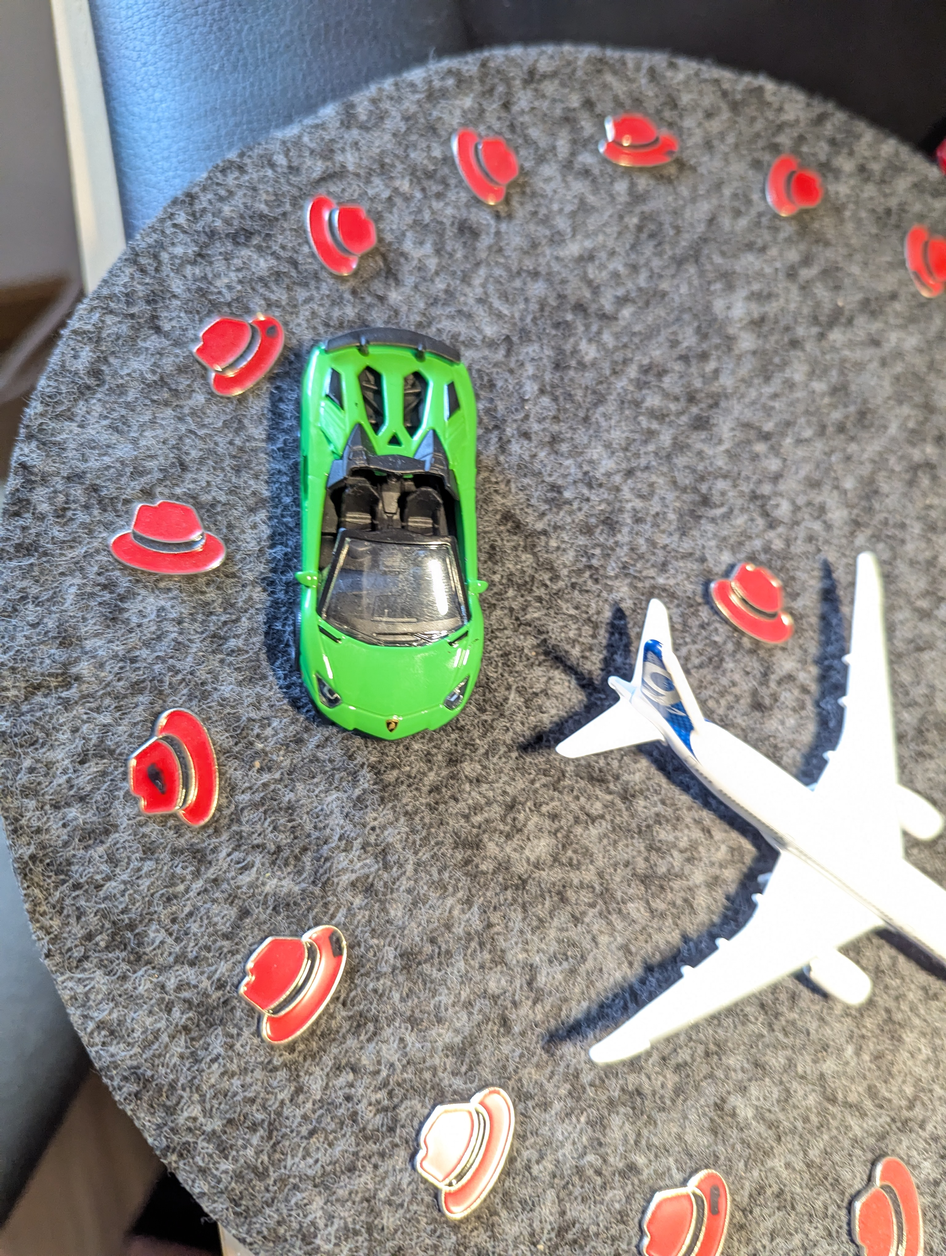Airplane: (543, 501, 946, 1095)
Car: (274, 309, 487, 743)
Red-Hat: (105, 681, 237, 854), (397, 1068, 525, 1246), (235, 896, 355, 1071), (173, 294, 310, 406), (92, 491, 235, 597), (693, 537, 810, 658), (622, 1148, 743, 1256), (837, 1145, 944, 1256), (432, 109, 536, 209), (292, 178, 380, 290), (586, 95, 694, 180), (875, 200, 946, 321), (761, 144, 842, 243)
Scratch: (315, 920, 363, 974), (897, 256, 943, 301), (139, 752, 178, 803), (702, 1176, 735, 1225), (252, 313, 295, 347), (656, 142, 687, 161)
